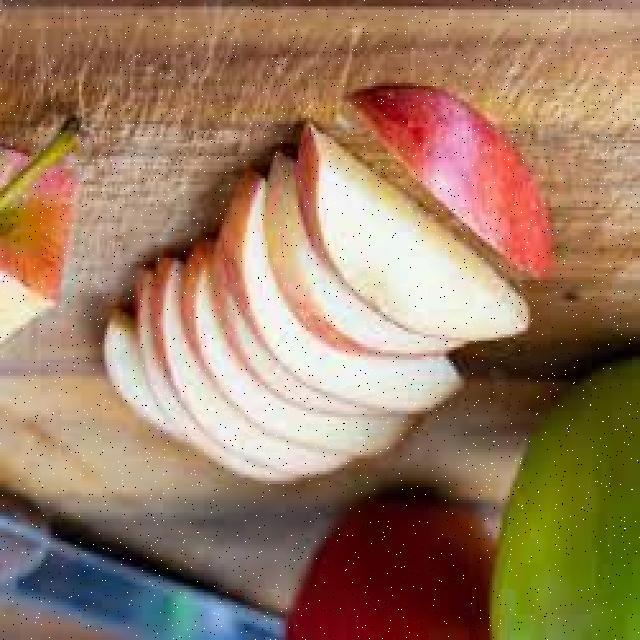Apple: (290, 144, 528, 344), (390, 84, 558, 275), (1, 62, 83, 378), (226, 326, 462, 417)
